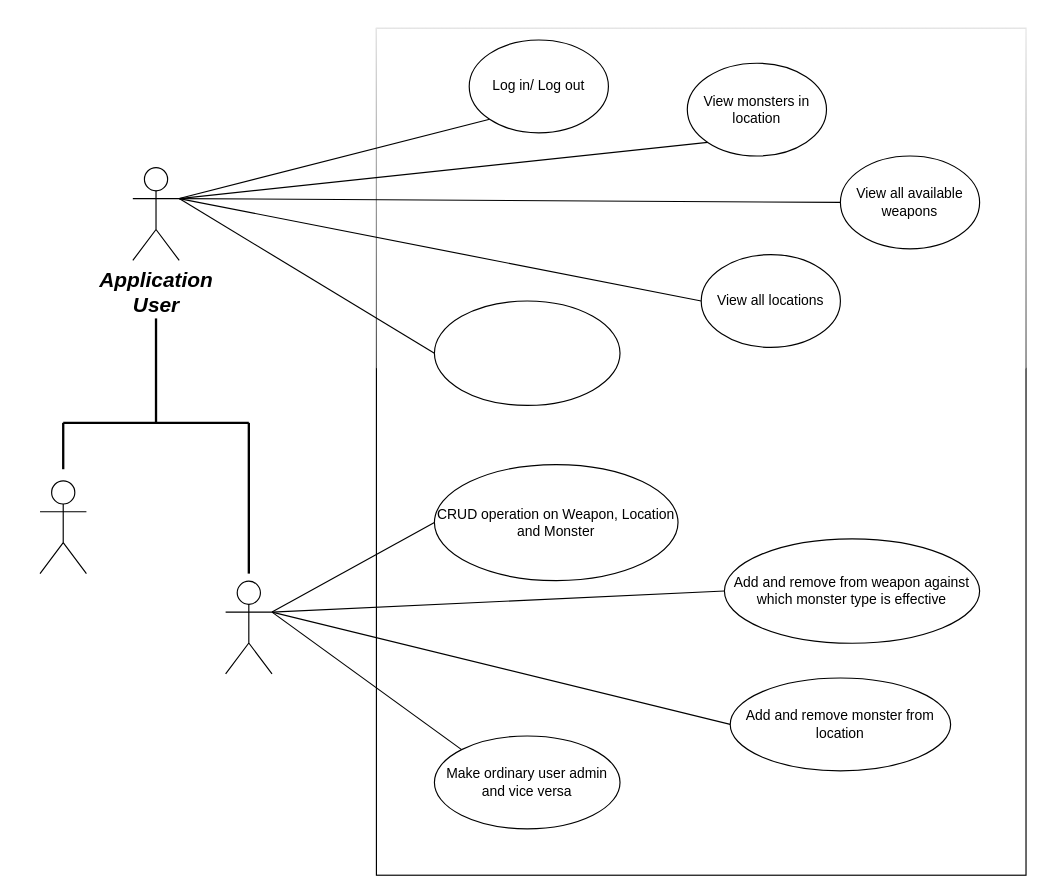
Some shapes in this 1046 by 896 pixel diagram are drawn without their labels. The shapes that lost their labels are listed below. From the top down, each one's centre as x and y in pixels, then its label:
At point (526, 352): "Add comments to weapon and location".
At point (62, 527): "Ordinary User".
At point (248, 627): "Admin".
